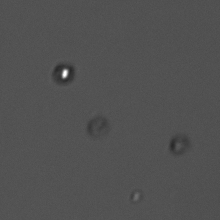Dead Cell: (166, 131, 192, 159), (86, 112, 112, 140)
Living Cell: (50, 60, 78, 85)
